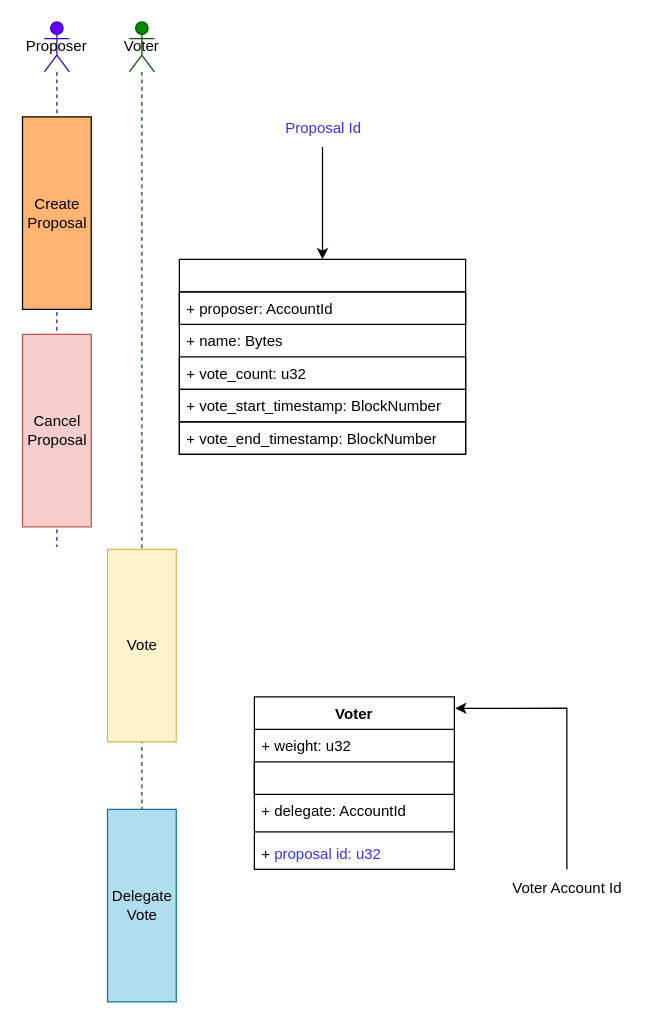
This 656x1024 diagram has some shape labels left out. The box of each missing label's shape, as (x1, y1, x2, y2) in pixels:
+ voted: bool: (253, 761, 454, 794)
Proposal: (178, 258, 466, 454)
